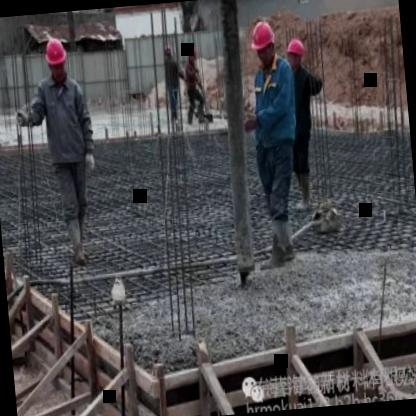helmet: (249, 18, 279, 67), (42, 34, 70, 84), (285, 34, 308, 72), (186, 43, 198, 66)
